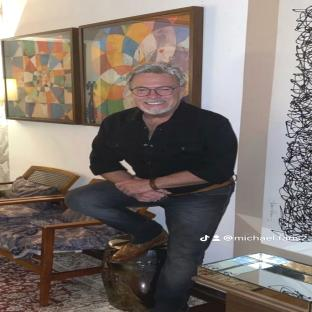Human: (65, 63, 237, 312)
